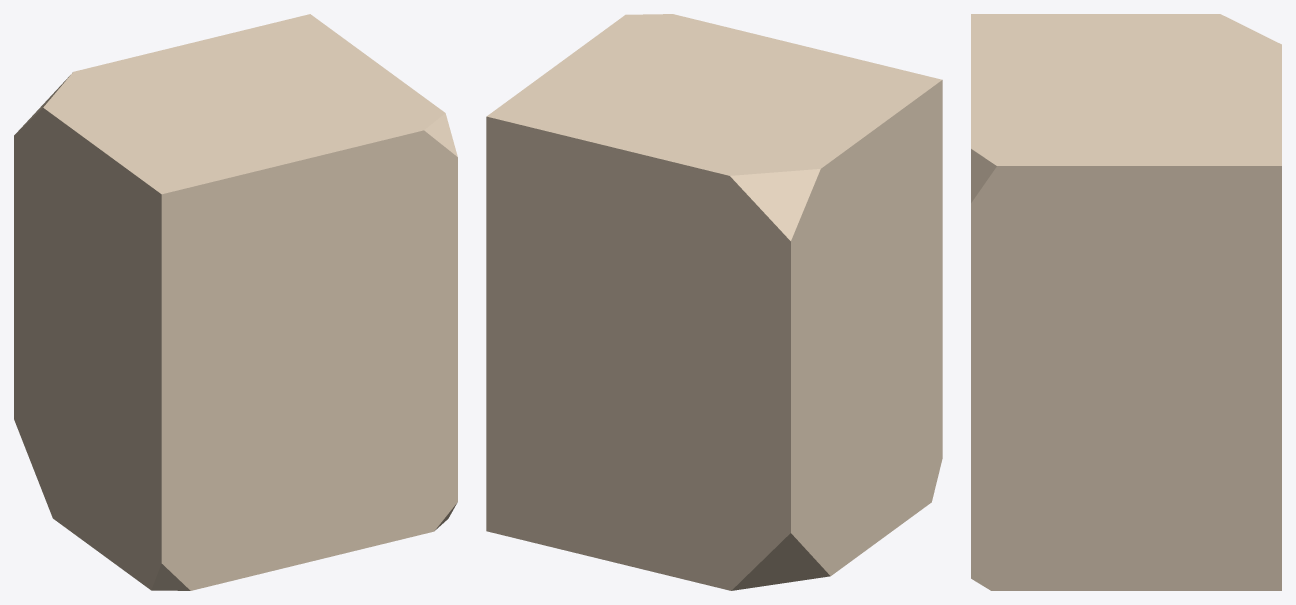
The picture shows the model from 3 angles, left to right: view 1: azimuth 30°, elevation 25°; view 2: azimuth 150°, elevation 25°; view 3: azimuth 270°, elevation 25°; orthographic projection. The views are drawn at different scales.
Parts seen in each view (by area): view 1: object9; view 2: object9; view 3: object9.
Part boxes in pixels (<box>): object9: <box>14,14,457,590</box>; object9: <box>486,14,942,590</box>; object9: <box>971,14,1281,590</box>.
Size of the model in its own units: 0.1738 by 0.2263 by 0.15.
